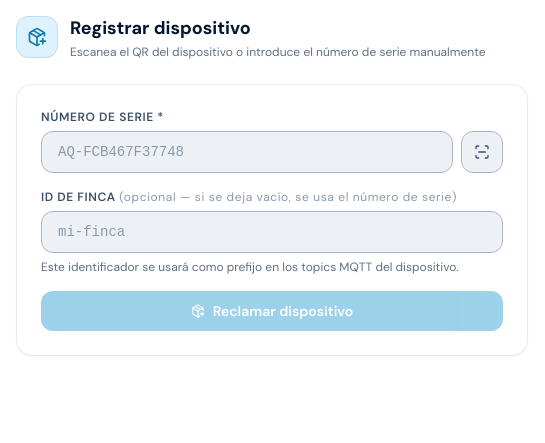
Test: ClaimDeviceView › shows generic error when network throws
Type "sn-xxx" into the field with placeholder "AQ-FCB467F37748".
click(247, 152); type("sn-xxx")  # box [41,131,453,173]
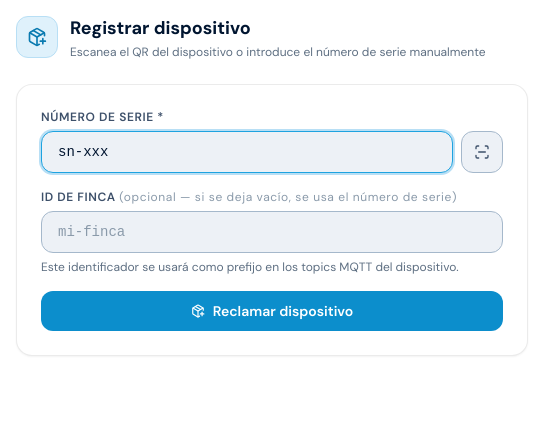
Click the button "Reclamar dispositivo".
click(272, 311)  # box [41,291,503,331]
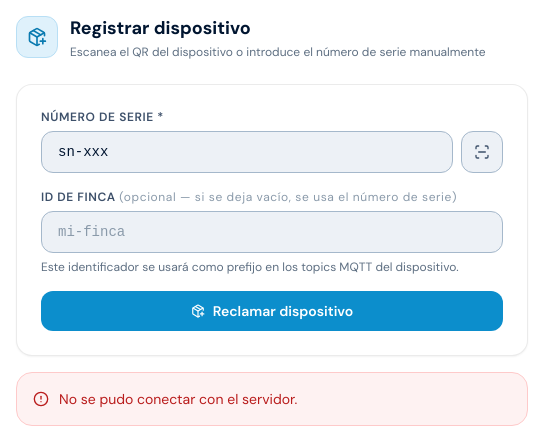
Check: the text "No se pudo conectar con el servidor." is shown, box [59,389,297,409]
